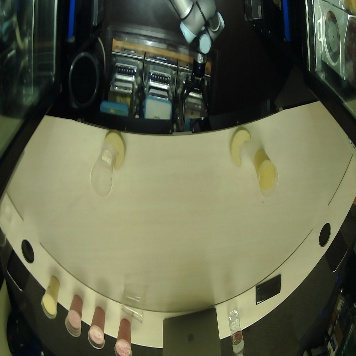empty_cup: (90, 141, 120, 200), (119, 290, 150, 326)
full_cup: (248, 147, 287, 201), (85, 298, 110, 354), (62, 287, 87, 343), (39, 268, 64, 324), (113, 317, 135, 356)
puck: (99, 129, 131, 171), (224, 124, 256, 166)
